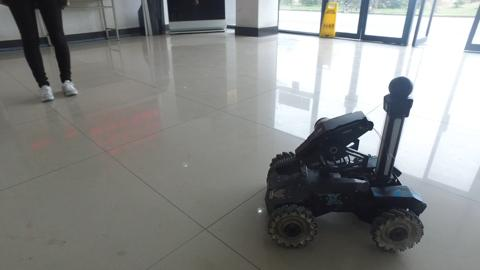chariot: (262, 75, 427, 254)
